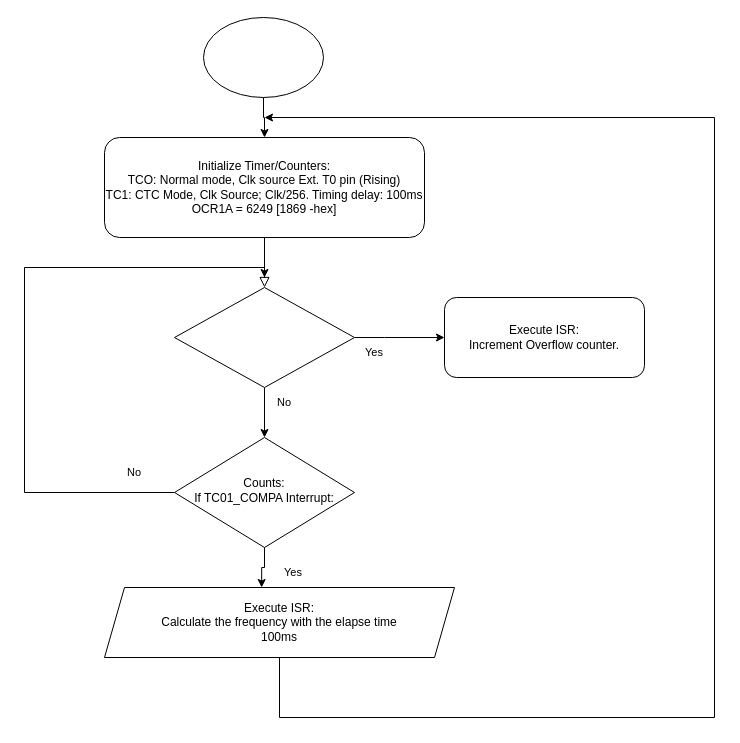
The diagram is 740 pixels wide and 743 high, and some of its shapes have lost their labels. The box of each missing label's shape, as (x1, y1, x2, y2) in pixels:
Counts: If TC0 _OVF interrupt:: (174, 286, 354, 388)
Start: (202, 16, 324, 98)
